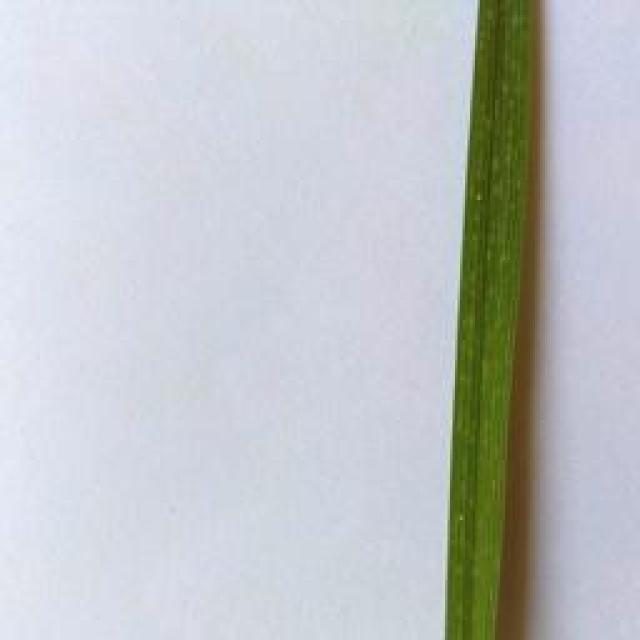Healthy-Plant: (445, 0, 539, 640)
